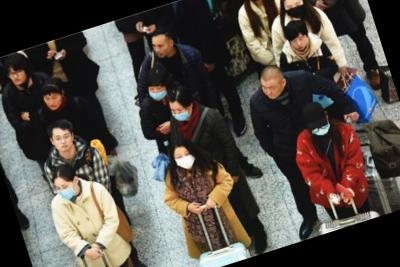with_mask: (173, 147, 199, 173), (54, 179, 79, 203), (145, 81, 170, 105), (170, 101, 193, 124), (312, 122, 334, 138)
without_mask: (51, 129, 77, 155), (43, 89, 66, 112), (261, 79, 284, 102), (151, 37, 173, 60), (8, 66, 28, 88), (291, 34, 311, 52)
